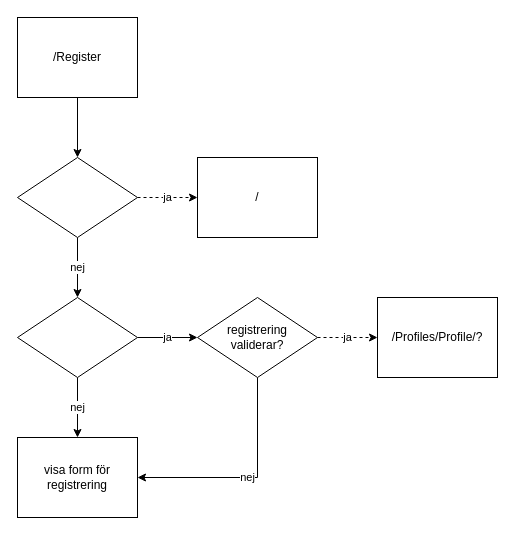
This 515x535 diagram has some shape labels left out. Here are the shapes that lost their labels. From the top down, the box of each, then its label:
(16, 156, 138, 238): inloggad?
(16, 296, 138, 378): POST?
